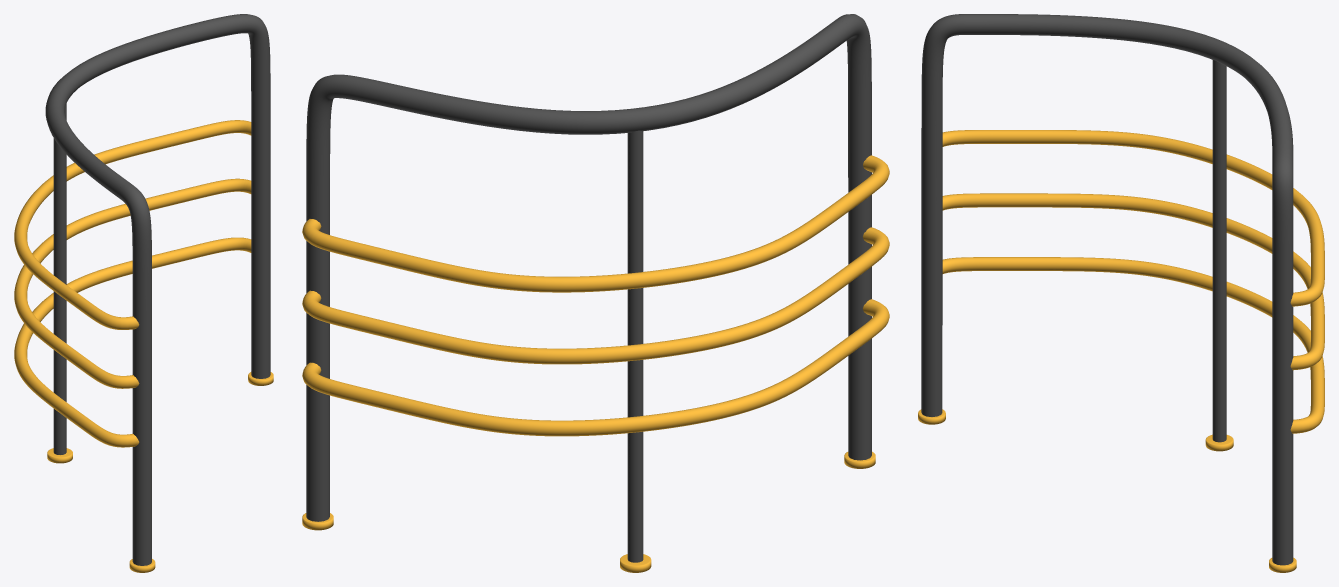
Rendered from Ringhiera2x1_Angolo.fbx.
The picture shows the model from 3 angles, left to right: view 1: azimuth 30°, elevation 25°; view 2: azimuth 150°, elevation 25°; view 3: azimuth 270°, elevation 25°; orthographic projection. The views are drawn at different scales.
Visible parts, largest first — view 1: MainStruct, BarraOriz3, BarraOriz1, BarraOriz2, BarraVert; view 2: MainStruct, BarraOriz1, BarraOriz2, BarraOriz3, BarraVert; view 3: MainStruct, BarraOriz3, BarraOriz1, BarraOriz2, BarraVert.
Boxes of the visible parts, x1=… form: MainStruct: x1=45, y1=14, x2=270, y2=565; BarraOriz3: x1=14, y1=120, x2=251, y2=329; BarraOriz1: x1=14, y1=178, x2=251, y2=388; BarraOriz2: x1=14, y1=237, x2=251, y2=447; BarraVert: x1=53, y1=103, x2=66, y2=454; MainStruct: x1=306, y1=14, x2=871, y2=521; BarraOriz1: x1=302, y1=227, x2=889, y2=364; BarraOriz2: x1=302, y1=299, x2=889, y2=436; BarraOriz3: x1=302, y1=155, x2=889, y2=292; BarraVert: x1=627, y1=130, x2=643, y2=562; MainStruct: x1=921, y1=14, x2=1293, y2=565; BarraOriz3: x1=942, y1=130, x2=1324, y2=306; BarraOriz1: x1=942, y1=193, x2=1324, y2=370; BarraOriz2: x1=942, y1=257, x2=1324, y2=433; BarraVert: x1=1212, y1=60, x2=1226, y2=442.
Size of the model in its own units: 116 by 127 by 116.
